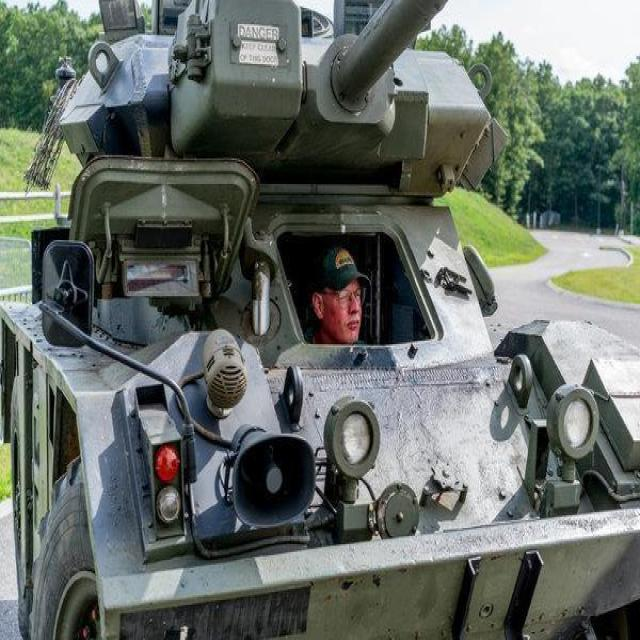MIL_MBT: (18, 10, 631, 620)
